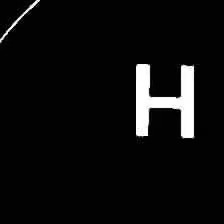LTR_H: (132, 58, 200, 141)
